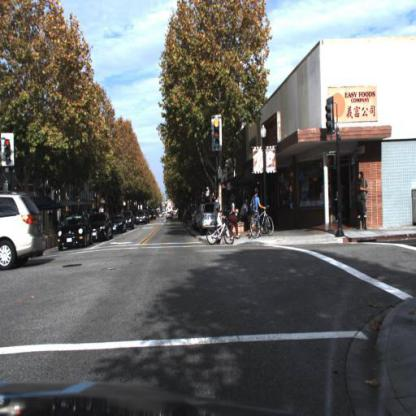car: (1, 190, 47, 272), (59, 214, 93, 251), (88, 212, 115, 239), (111, 214, 127, 236), (120, 211, 135, 231), (136, 210, 150, 226)
pedestrian: (243, 186, 279, 243), (204, 201, 235, 251), (353, 168, 371, 234), (227, 193, 241, 241), (212, 191, 222, 237)
trafficLight: (210, 111, 225, 155), (2, 129, 15, 171)
